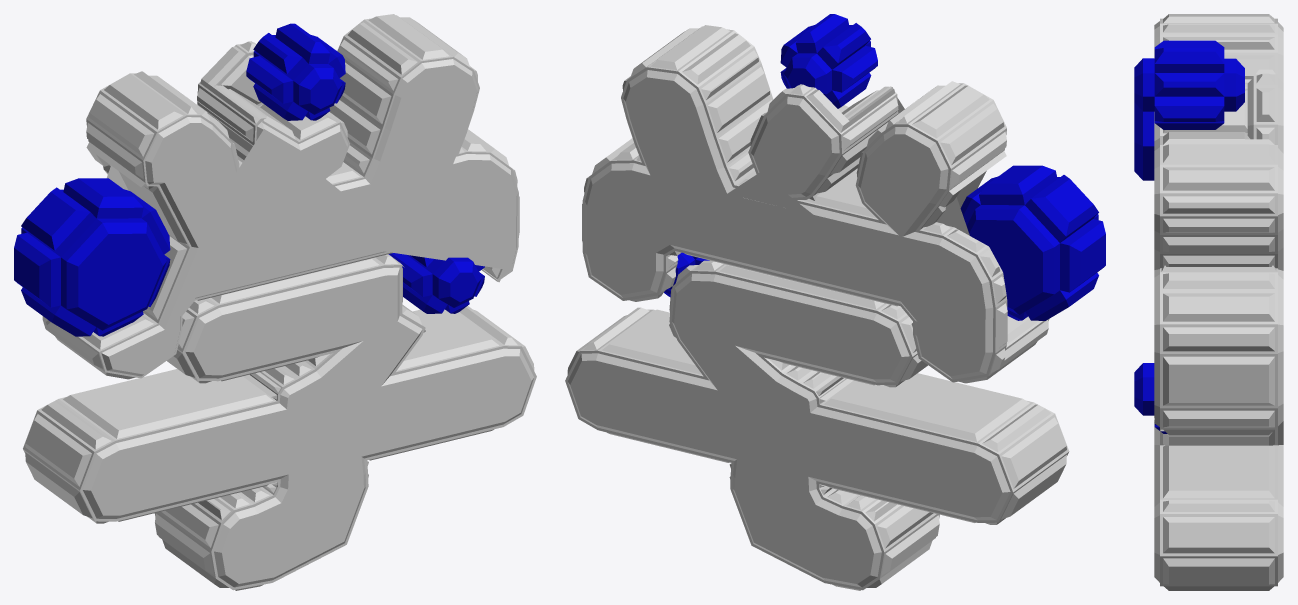
The model's file is Ch_China_学_01.fbx.
3 renders of one model, left to right at view 1: azimuth 30°, elevation 25°; view 2: azimuth 150°, elevation 25°; view 3: azimuth 270°, elevation 25°, orthographic. The views are drawn at different scales.
Visible parts, largest first — view 1: sphere1; view 2: sphere1; view 3: sphere1.
Part boxes in pixels (x1,y1,x2,y2): sphere1: (14, 14, 536, 590); sphere1: (565, 14, 1105, 590); sphere1: (1134, 14, 1283, 590).
Size of the model in its own units: 1 by 1.03 by 0.2541.
